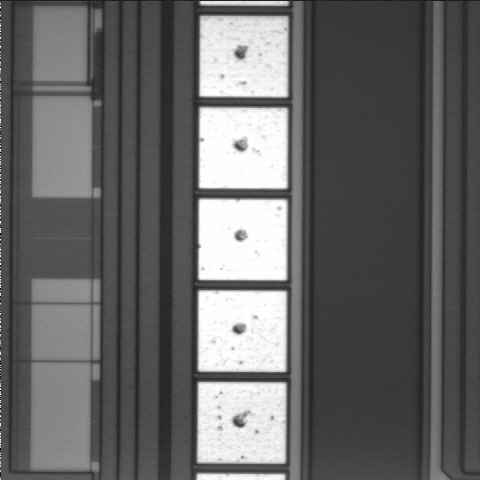pad: (199, 107, 288, 189), (198, 290, 287, 372), (197, 382, 286, 464), (198, 199, 287, 280), (200, 16, 288, 97)
